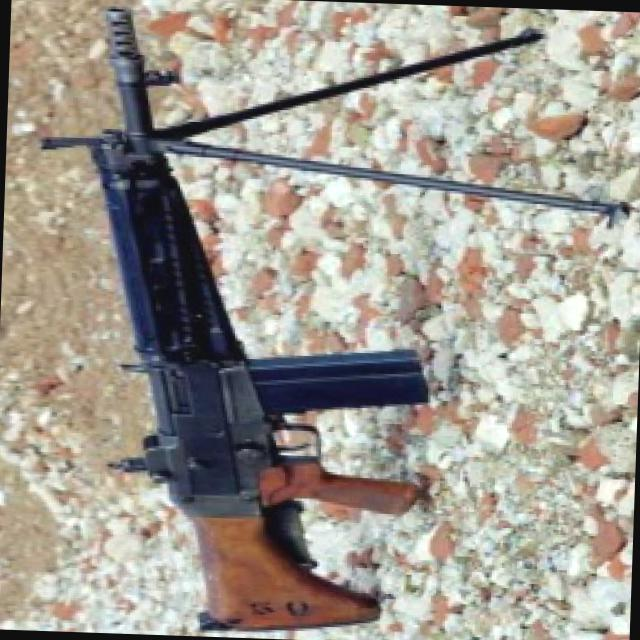long weapon: (10, 30, 432, 632)
